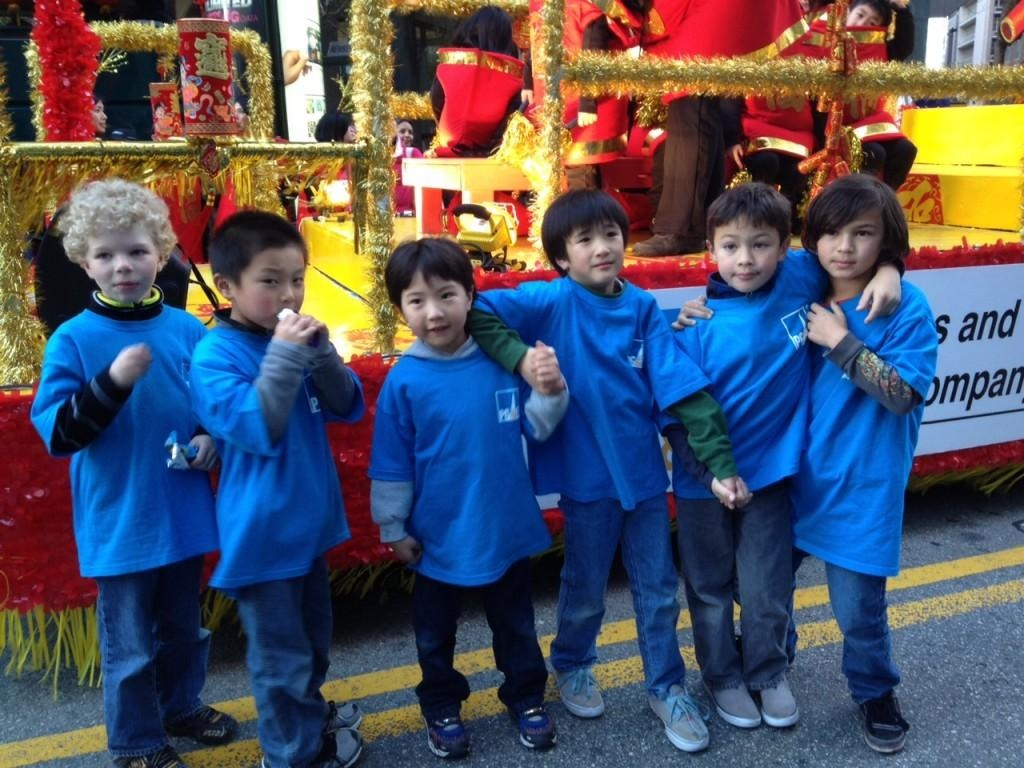human_face: (88, 224, 156, 302), (234, 256, 304, 328), (400, 271, 468, 345), (714, 216, 780, 290), (818, 208, 884, 278), (564, 213, 622, 280), (844, 7, 878, 39)
